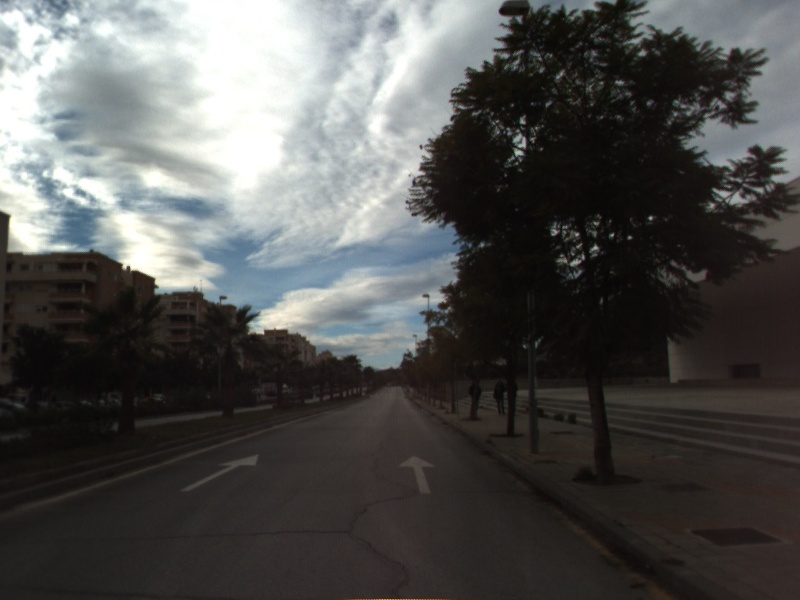STRAIGHT: (178, 453, 261, 493), (396, 453, 439, 496)
